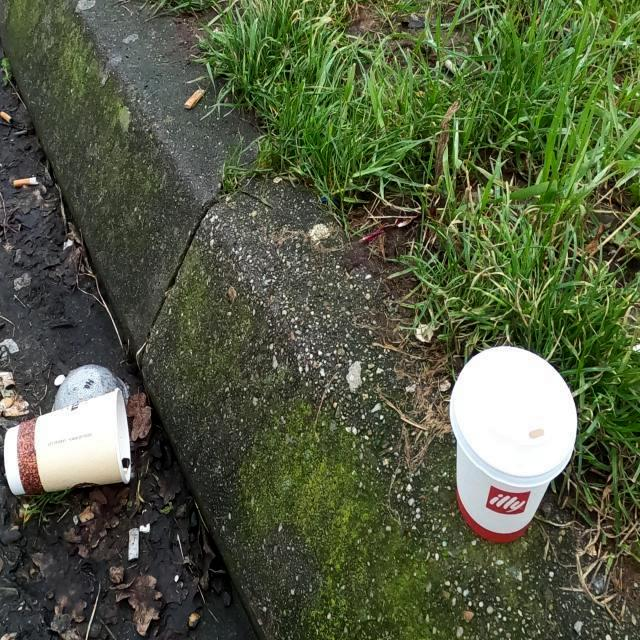Coffee Cup: (448, 345, 578, 545), (2, 384, 132, 500)
